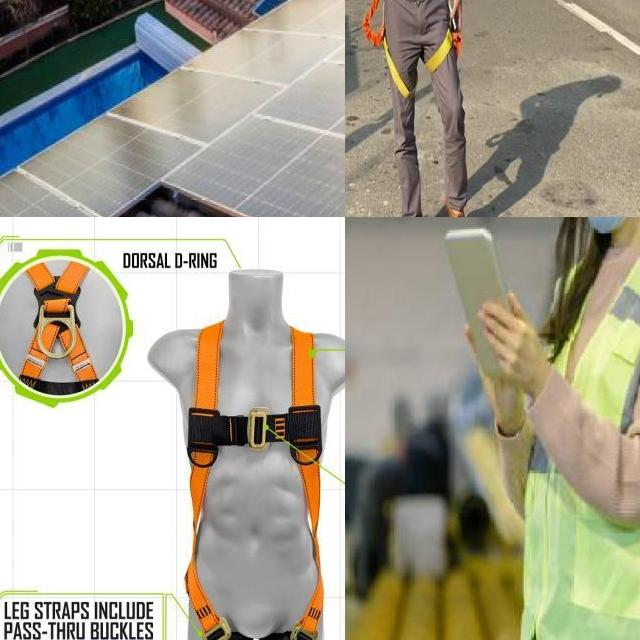Harness: (186, 322, 324, 640), (19, 261, 98, 389), (363, 0, 459, 100)
person: (442, 217, 640, 640)
vest: (509, 236, 640, 640)
